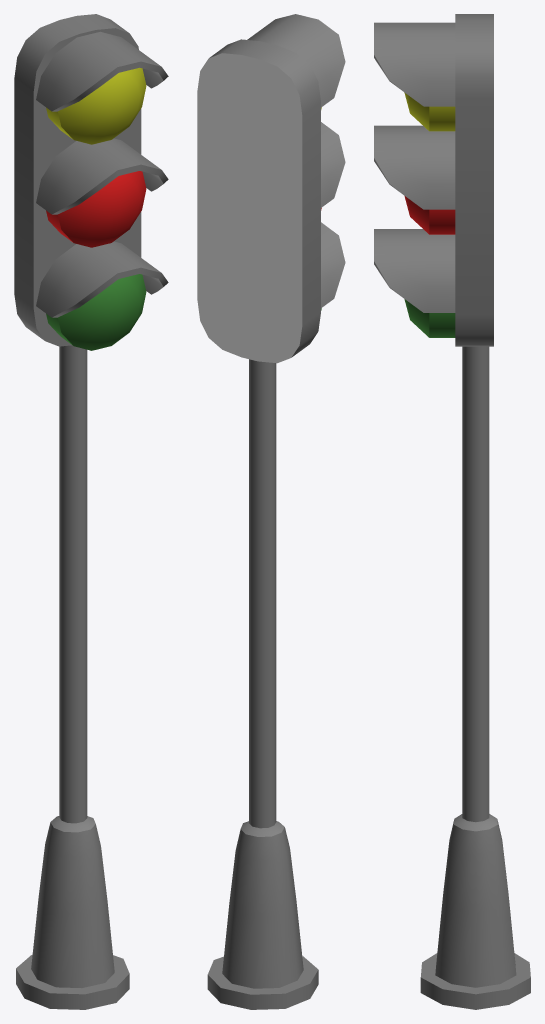
Rendered from SM_traffic_lights.fbx.
3 views of the same model, side by side, from view 1: azimuth 30°, elevation 25°; view 2: azimuth 150°, elevation 25°; view 3: azimuth 270°, elevation 25° (orthographic). The views are drawn at different scales.
Parts seen in each view (by area): view 1: Object040; view 2: Object040; view 3: Object040.
Part boxes in pixels (bbox=[...]): Object040: bbox=[14, 14, 168, 1009]; Object040: bbox=[197, 14, 345, 1009]; Object040: bbox=[374, 14, 530, 1009].
Bounding box in the file's own units: 16.61 × 142 × 20.9.
